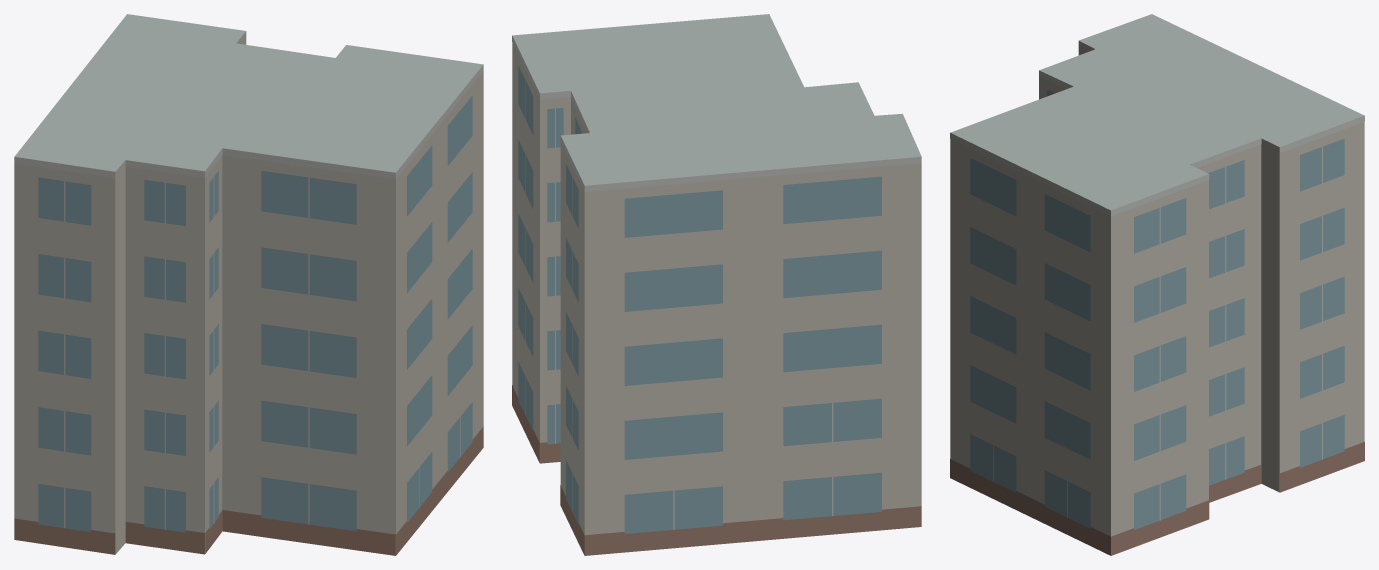
The model's file is survey-upis-32512678.glb.
3 views of the same model, side by side, from view 1: azimuth 30°, elevation 25°; view 2: azimuth 150°, elevation 25°; view 3: azimuth 270°, elevation 25° (orthographic). The views are drawn at different scales.
Visible parts, largest first — view 1: survey-upis-32512678.tmp; view 2: survey-upis-32512678.tmp; view 3: survey-upis-32512678.tmp.
Part boxes in pixels (x1,y1,x2,y2): survey-upis-32512678.tmp: (14,14,483,555); survey-upis-32512678.tmp: (512,14,921,555); survey-upis-32512678.tmp: (950,14,1364,555).
Size of the model in its own units: 17.45 by 14.3 by 15.56.
